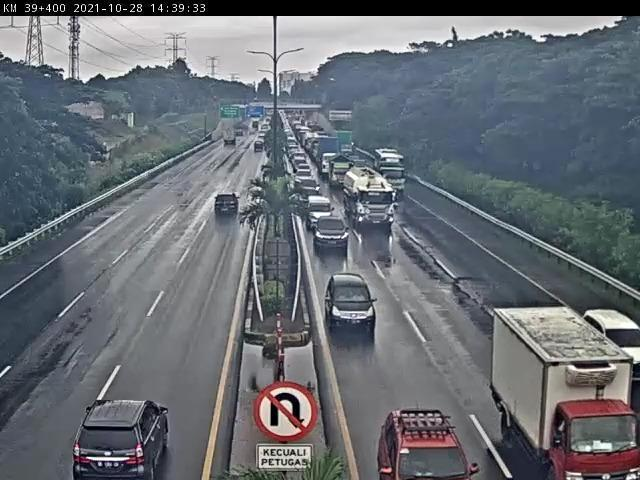bus: (373, 151, 410, 187), (297, 179, 326, 196)
car: (65, 394, 183, 480), (383, 408, 479, 480), (589, 295, 640, 364), (323, 272, 375, 335), (306, 212, 352, 252), (209, 191, 245, 223), (303, 193, 332, 225)
truck: (489, 305, 640, 480), (344, 173, 403, 237)
